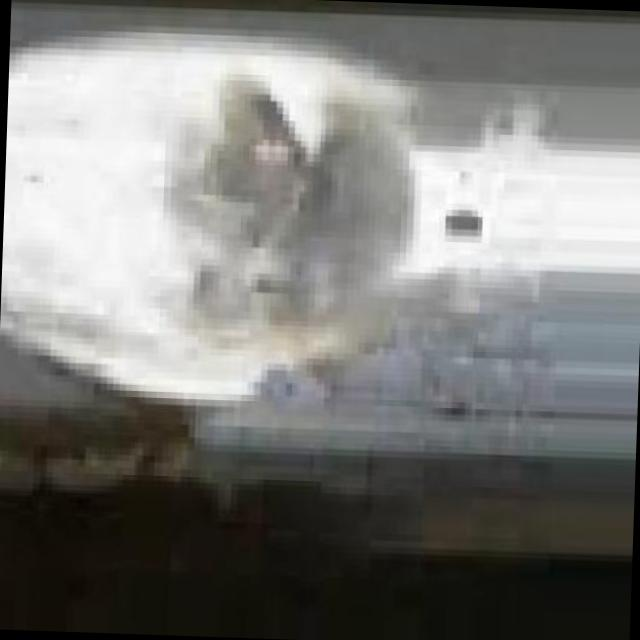defective: (0, 0, 506, 555)
